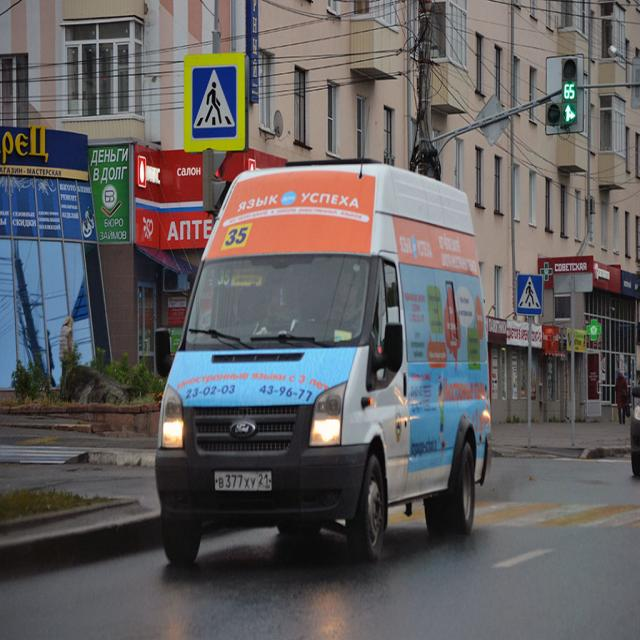number-of-bus: (224, 227, 252, 252), (217, 266, 234, 289)
